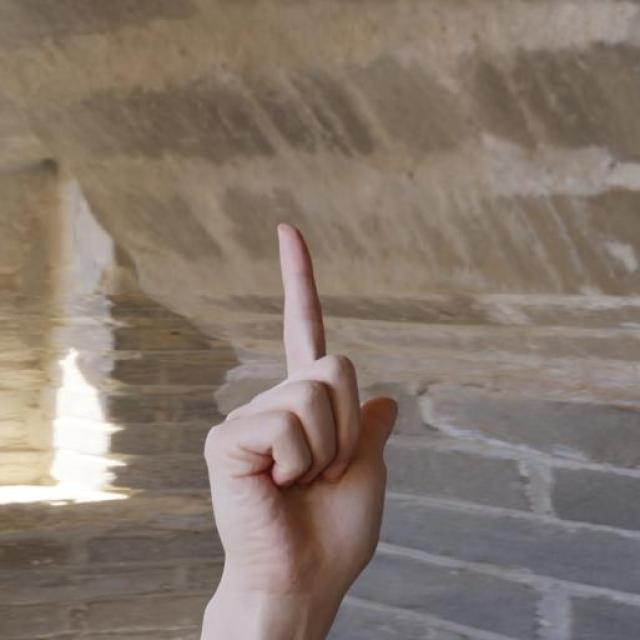L: (170, 207, 438, 640)
